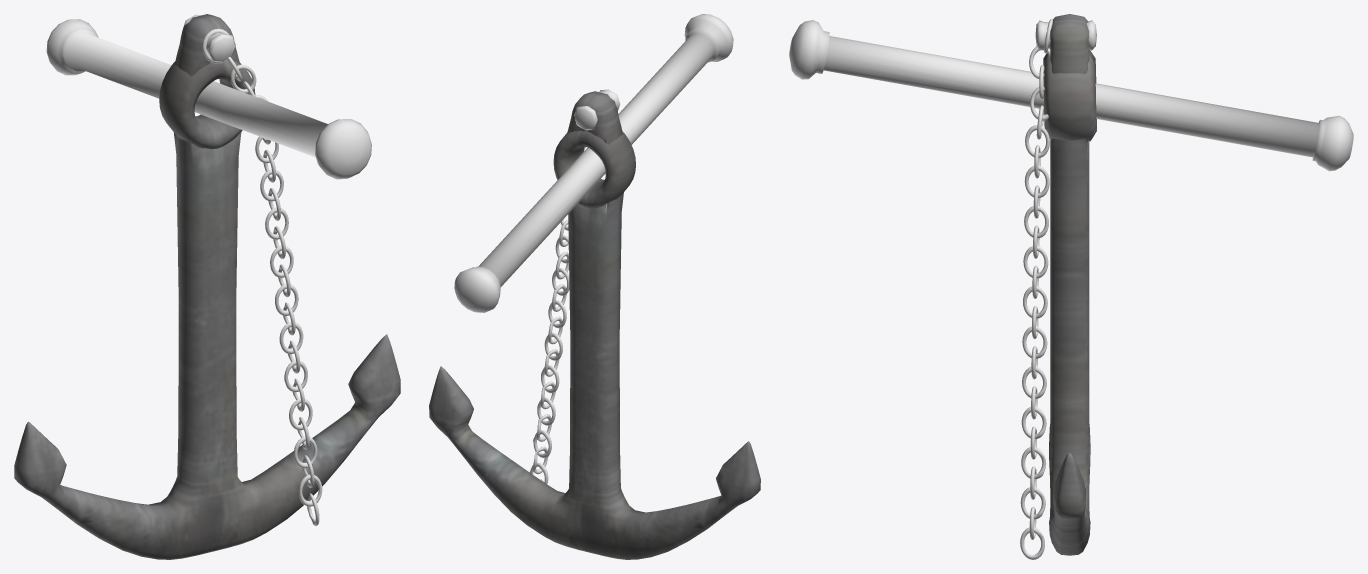
File: anchor.fbx
3 renders of one model, left to right at view 1: azimuth 30°, elevation 25°; view 2: azimuth 150°, elevation 25°; view 3: azimuth 270°, elevation 25°, orthographic. The views are drawn at different scales.
Parts seen in each view (by area): view 1: anchor, stock, chain, head; view 2: anchor, stock, chain, head; view 3: anchor, stock, chain.
Boxes of the visible parts, box(x1,y1,x2,y2) form: anchor: box(14, 14, 400, 559); stock: box(46, 19, 371, 179); chain: box(202, 28, 322, 525); head: box(182, 14, 235, 62); anchor: box(429, 91, 760, 559); stock: box(454, 14, 733, 312); chain: box(530, 91, 613, 484); head: box(574, 89, 620, 130); anchor: box(1043, 14, 1096, 555); stock: box(789, 20, 1353, 171); chain: box(1020, 19, 1052, 559).
Size of the model in its own units: 2.7 by 3.61 by 3.57.
